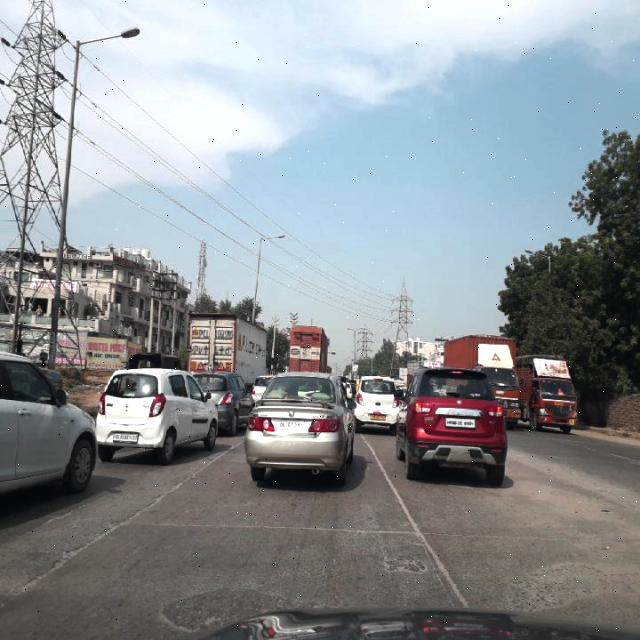D01: (74, 502, 142, 553), (0, 555, 68, 605), (148, 461, 210, 498), (361, 436, 396, 498), (400, 501, 431, 552), (432, 553, 463, 603)
D11: (117, 514, 579, 545)
